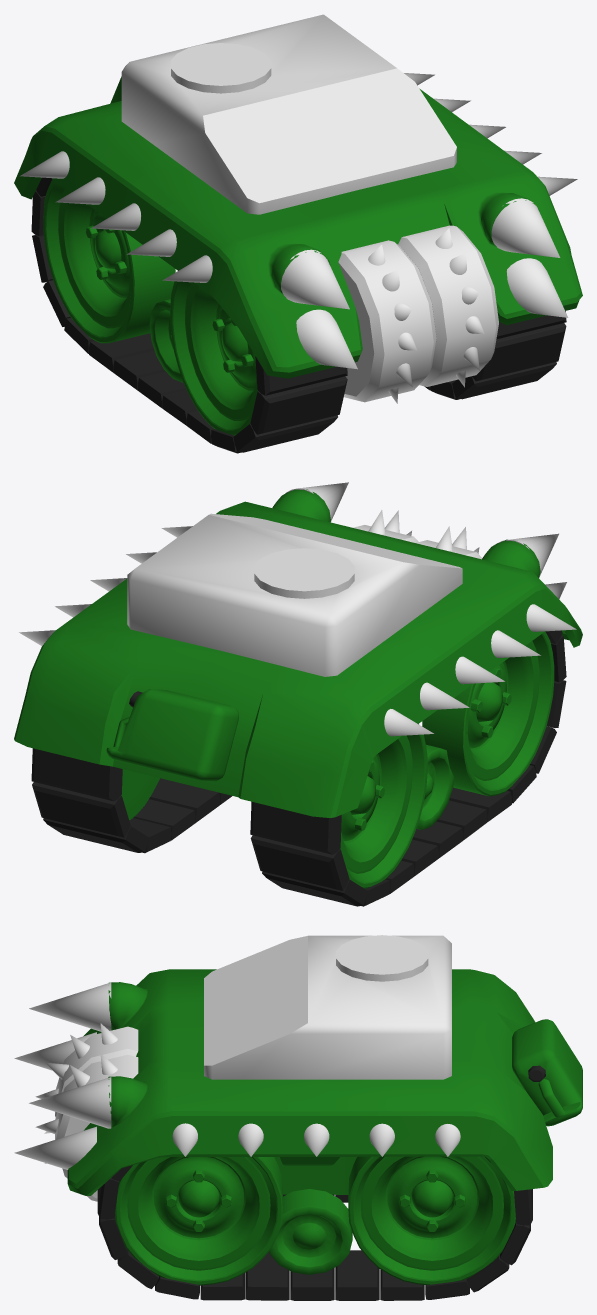
Rendered from Reaper.FBX.
3 views of the same model, one above another, from view 1: azimuth 30°, elevation 25°; view 2: azimuth 150°, elevation 25°; view 3: azimuth 270°, elevation 25° (orthographic). The views are drawn at different scales.
Parts seen in each view (by area): view 1: Box001, TankChassis, TankTracksRight, Cone014, TankTracksLeft; view 2: TankChassis, Box001, TankTracksRight, TankTracksLeft, Cone014; view 3: TankChassis, TankTracksLeft, Box001, Cone014.
Part boxes in pixels (x1,y1,x2,y2): Box001: (121,14,498,402); TankChassis: (14,76,582,382); TankTracksRight: (31,177,347,453); Cone014: (20,73,577,403); TankTracksLeft: (424,311,566,399); TankChassis: (14,489,582,829); Box001: (127,513,482,676); TankTracksRight: (250,630,566,906); TankTracksLeft: (31,748,231,853); Cone014: (19,482,576,736); TankChassis: (67,969,582,1274); TankTracksLeft: (97,1156,532,1300); Box001: (55,935,451,1201); Cone014: (14,982,460,1169).
Bounding box in the file's own units: 133 × 86.88 × 172.
